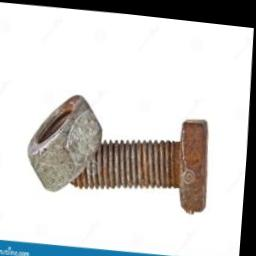Corroded-Bolt: (73, 115, 210, 210)
Non-corroded Nut: (29, 93, 105, 192)
